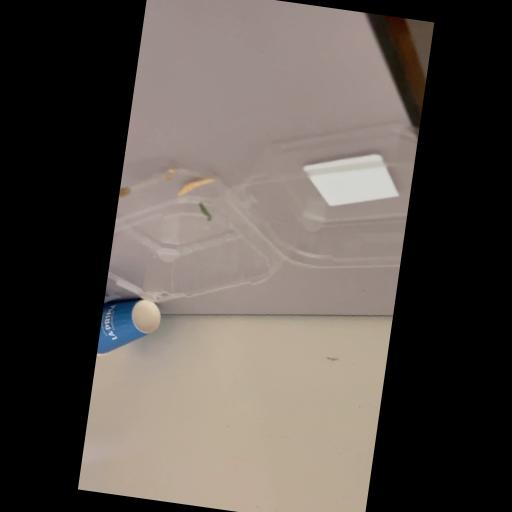lp_paper_cup: (98, 294, 164, 365)
small_plastic_container: (111, 92, 419, 338)
